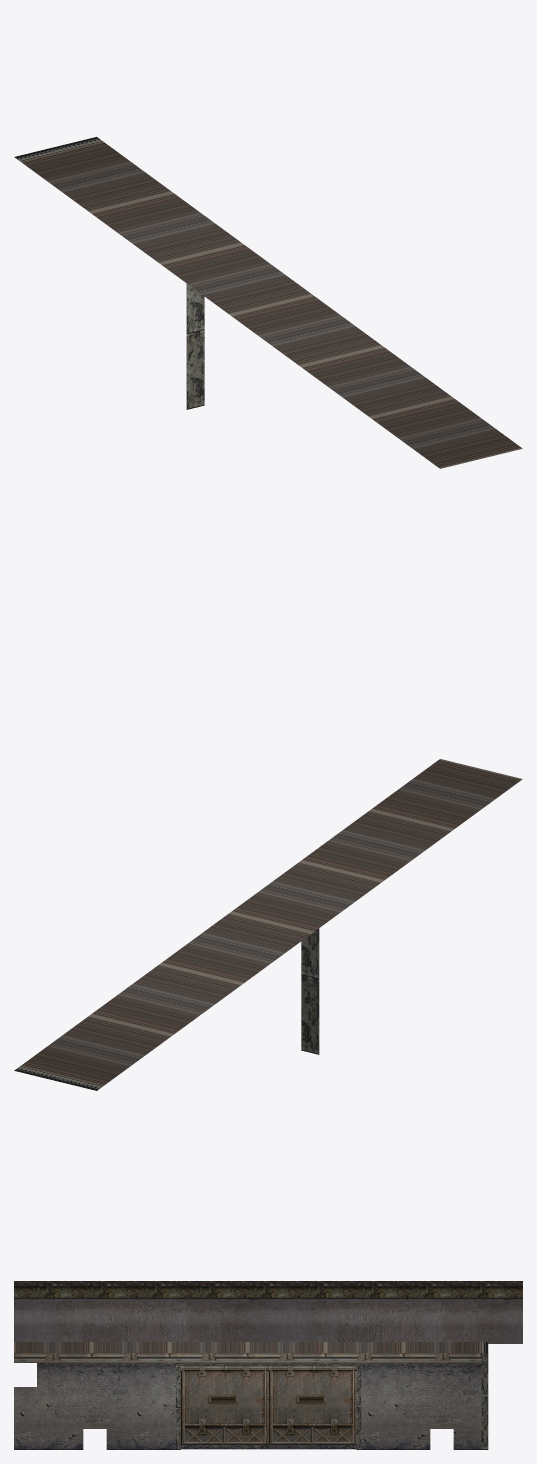
File: M10_Z1_RoadGate04.glb
3 renders of one model, top to bottom at view 1: azimuth 30°, elevation 25°; view 2: azimuth 150°, elevation 25°; view 3: azimuth 270°, elevation 25°, orthographic. The views are drawn at different scales.
Parts seen in each view (by area): view 1: M10_Z1_ROADGATE04; view 2: M10_Z1_ROADGATE04; view 3: M10_Z1_ROADGATE04.
Boxes of the visible parts, x1=… form: M10_Z1_ROADGATE04: x1=14, y1=137, x2=522, y2=468; M10_Z1_ROADGATE04: x1=14, y1=759, x2=522, y2=1090; M10_Z1_ROADGATE04: x1=14, y1=1281, x2=522, y2=1449.
Size of the model in its own units: 2.3 by 7.87 by 22.
Materials: 5 (5 with a texture image).
